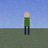person: (22, 12, 32, 35)
